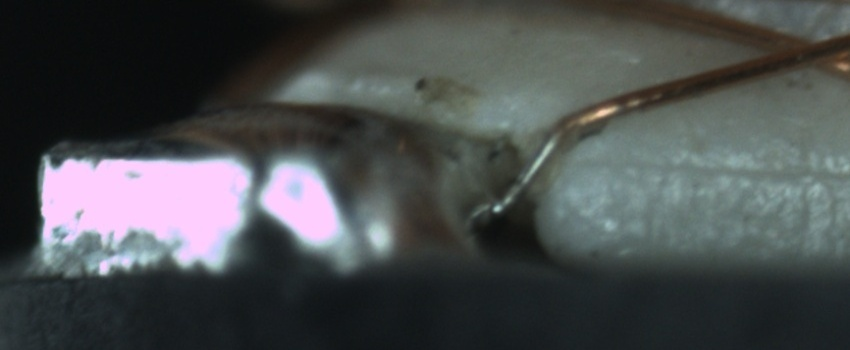CL: (750, 21, 840, 77)
DL: (570, 132, 843, 200)
TS: (492, 122, 565, 218)
